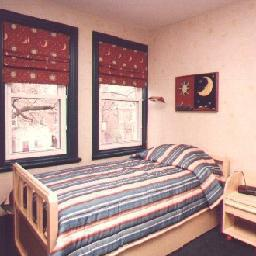Cama: (15, 146, 218, 247)
Ventana: (3, 15, 77, 160), (96, 35, 147, 151)
